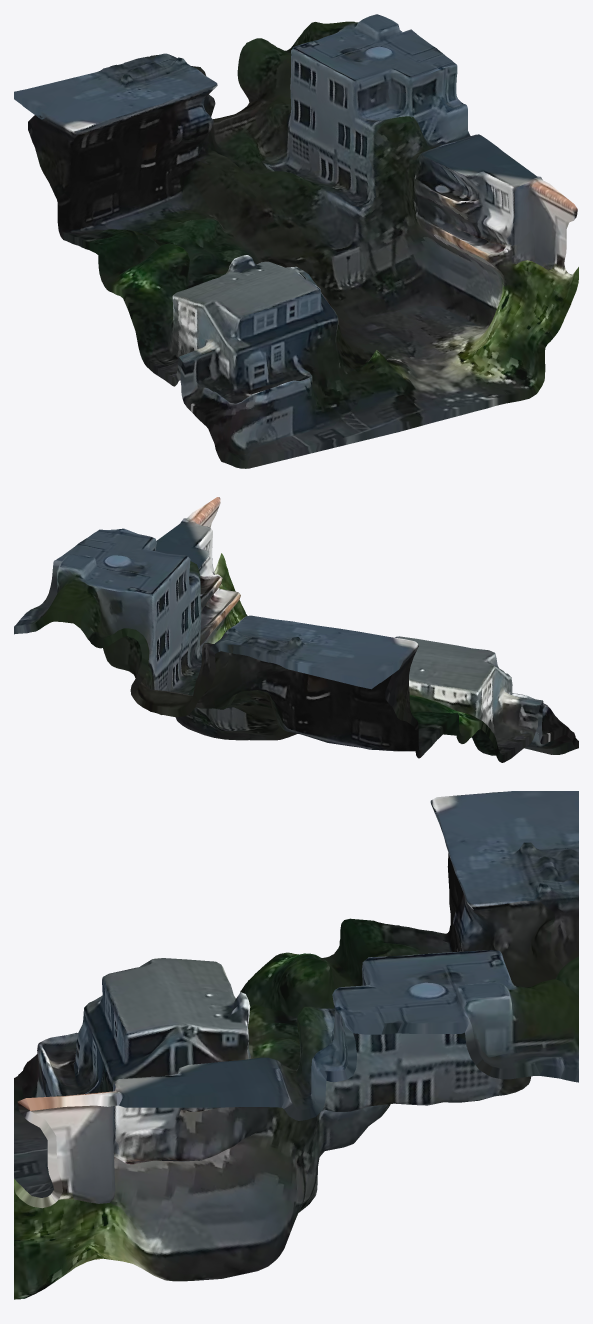
The model's file is z20-167717-405197-h0-yup-uvflip-v3-world.glb.
3 renders of one model, top to bottom at view 1: azimuth 30°, elevation 25°; view 2: azimuth 150°, elevation 25°; view 3: azimuth 270°, elevation 25°, orthographic. The views are drawn at different scales.
Size of the model in its own units: 30.16 by 19.88 by 30.32.
Materials: 1 (1 with a texture image).
